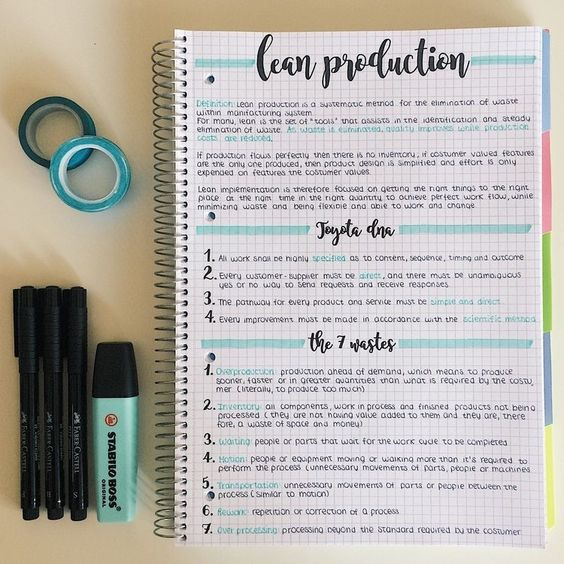page: (192, 31, 542, 551)
